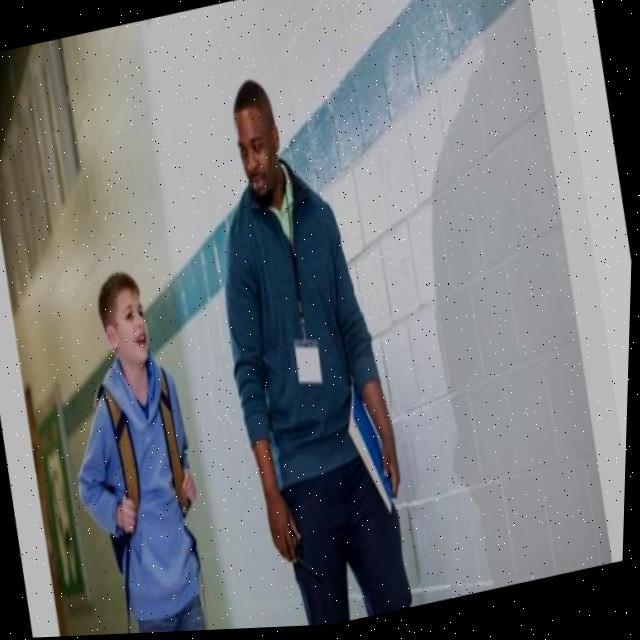id_card: (251, 197, 346, 399)
